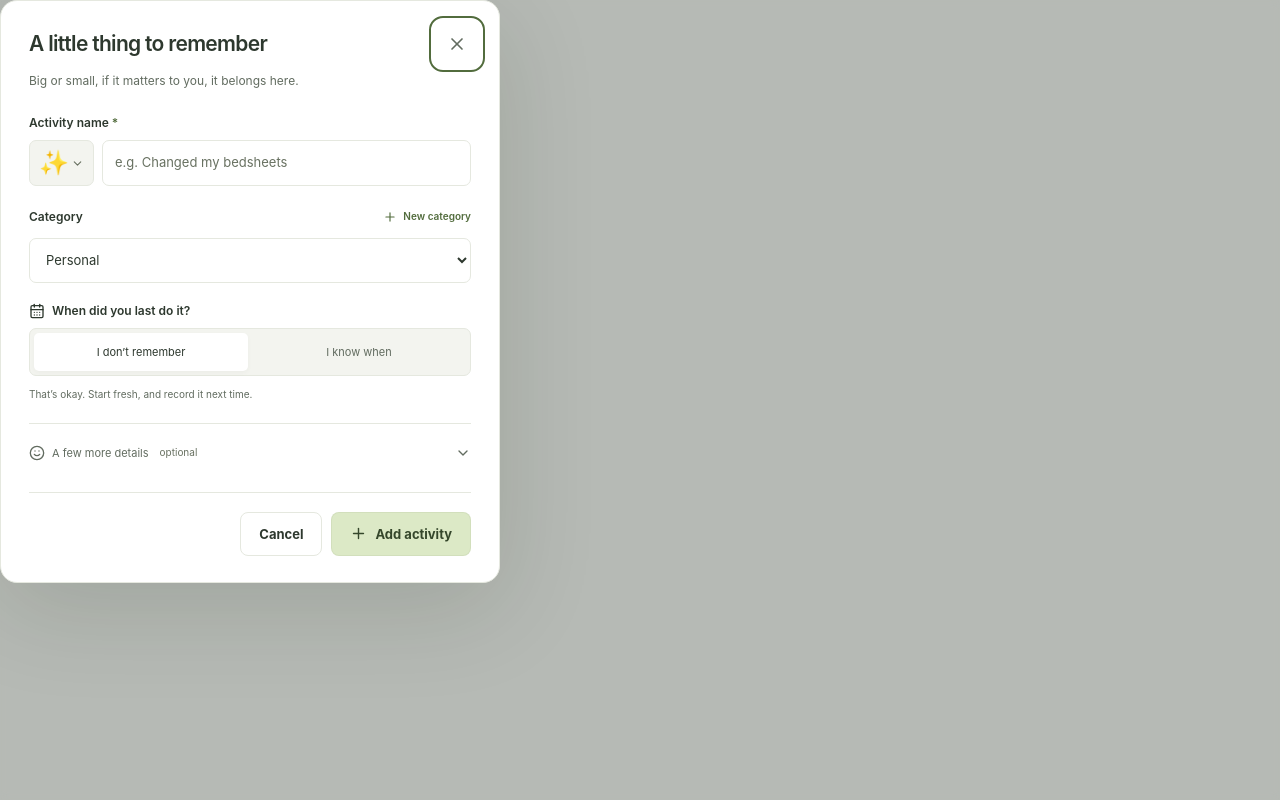
Test: Accessible activity form › shows friendly validation when a duplicate name is submitted
Type "Plants" into the field labelled "Activity name *" at (286, 163), box [102,140,471,186]
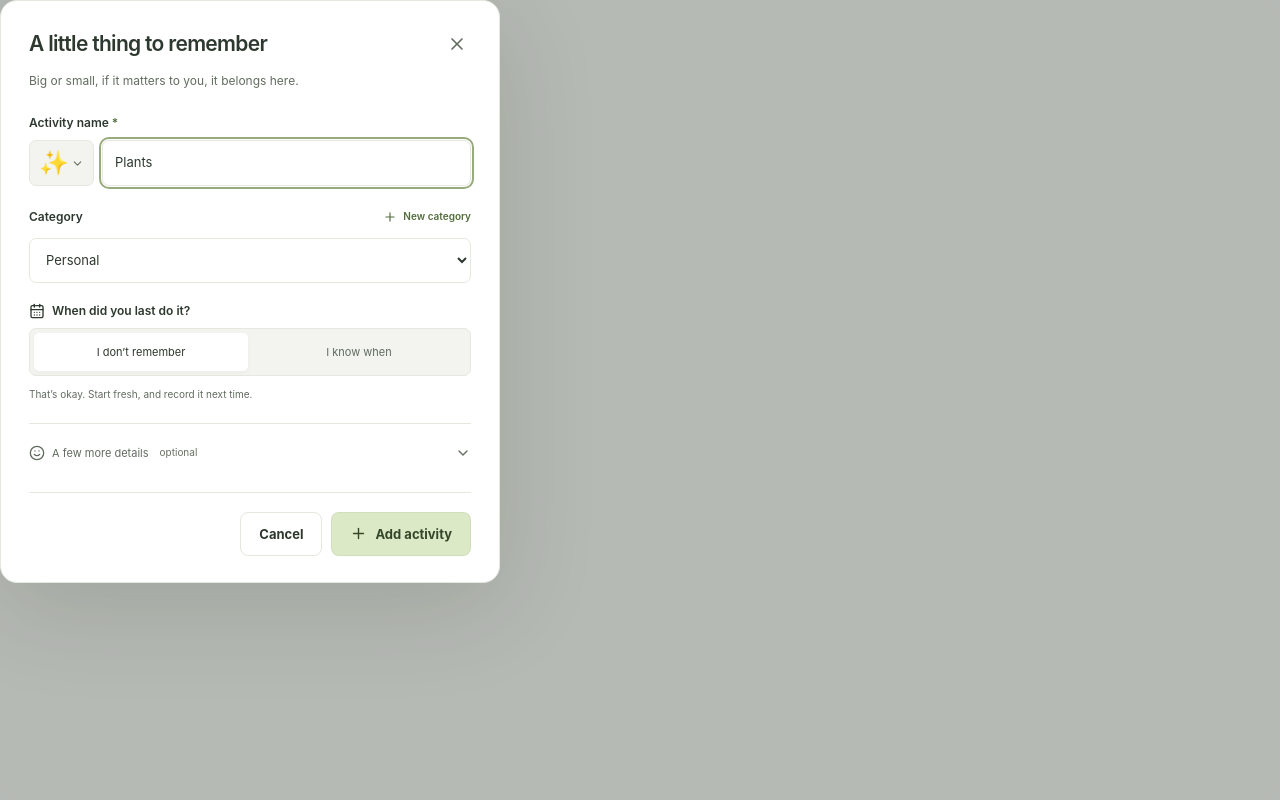
Click the button "Add activity" at (401, 534), box [332,512,471,556]
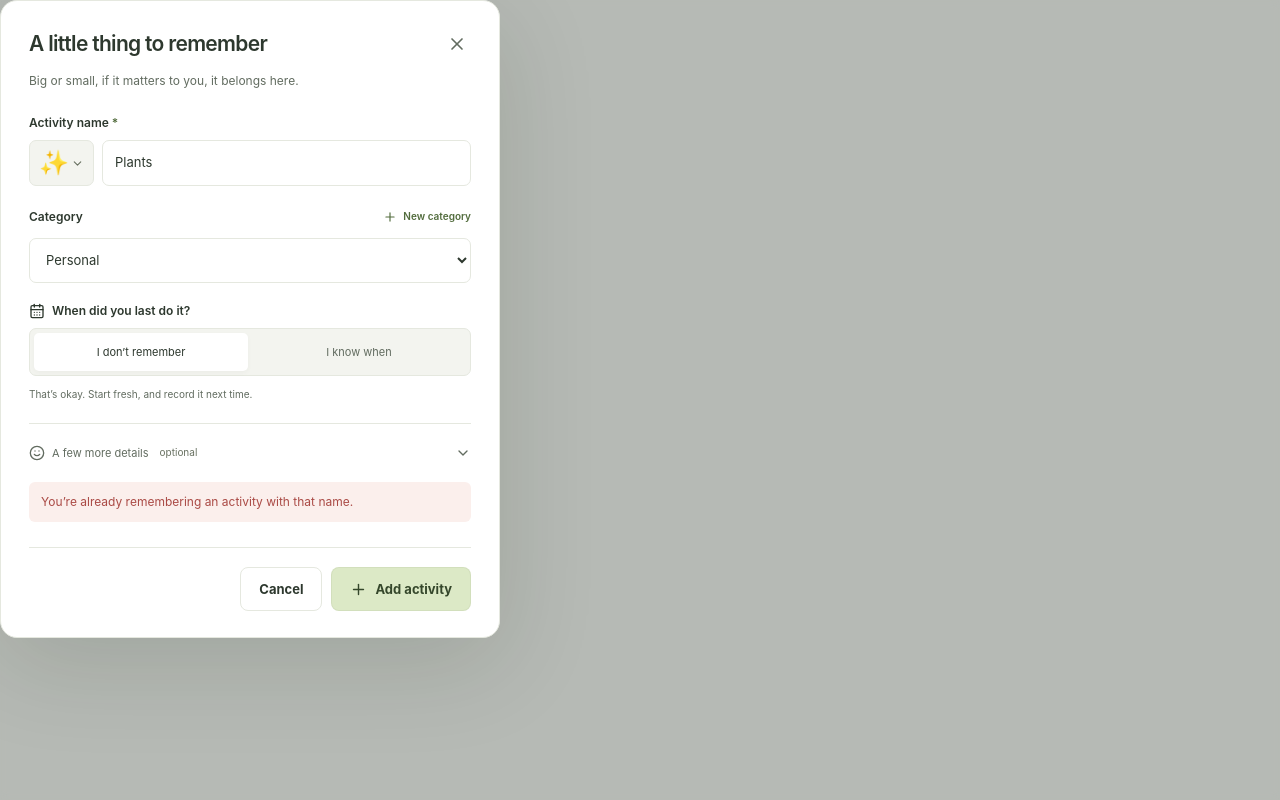
Expected: the message shows "already", [41,494,353,509]
